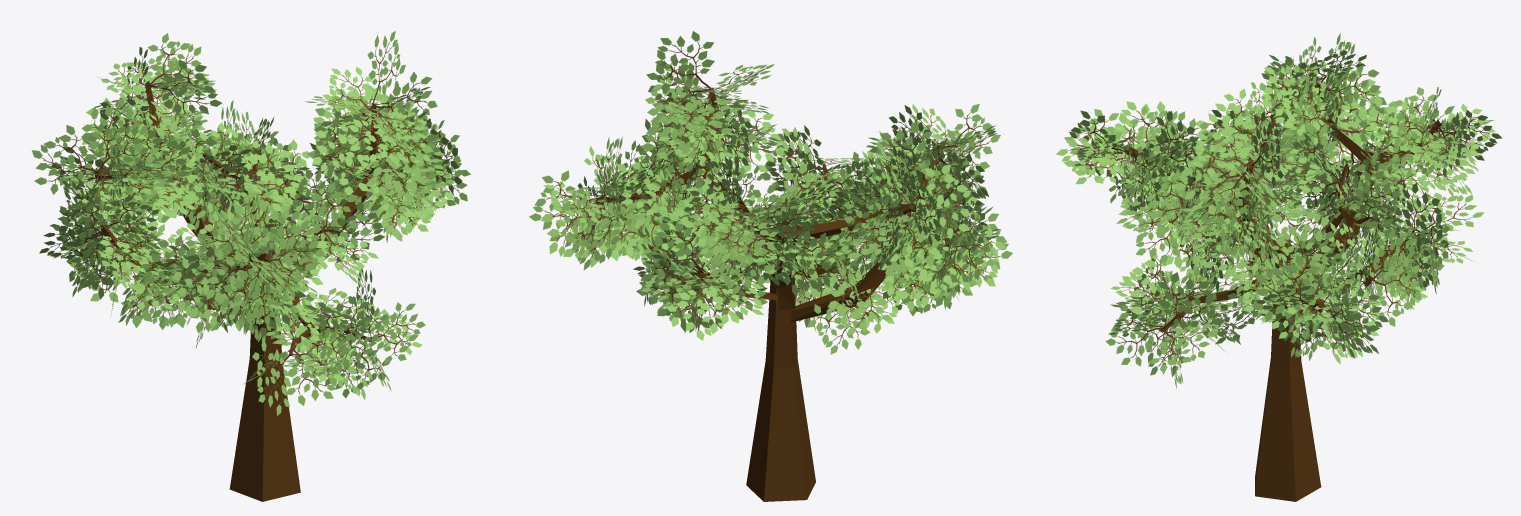
The model's file is treeB.glb.
3 renders of one model, left to right at view 1: azimuth 30°, elevation 25°; view 2: azimuth 150°, elevation 25°; view 3: azimuth 270°, elevation 25°, orthographic. The views are drawn at different scales.
Parts seen in each view (by area): view 1: Tree_green01_Cube.007; view 2: Tree_green01_Cube.007; view 3: Tree_green01_Cube.007.
Boxes of the visible parts, box(x1,y1,x2,y2) form: Tree_green01_Cube.007: box(31, 30, 470, 501); Tree_green01_Cube.007: box(529, 31, 1012, 501); Tree_green01_Cube.007: box(1056, 33, 1502, 501).
Size of the model in its own units: 14.11 by 13.16 by 12.32.
2 materials, 1 textured.
